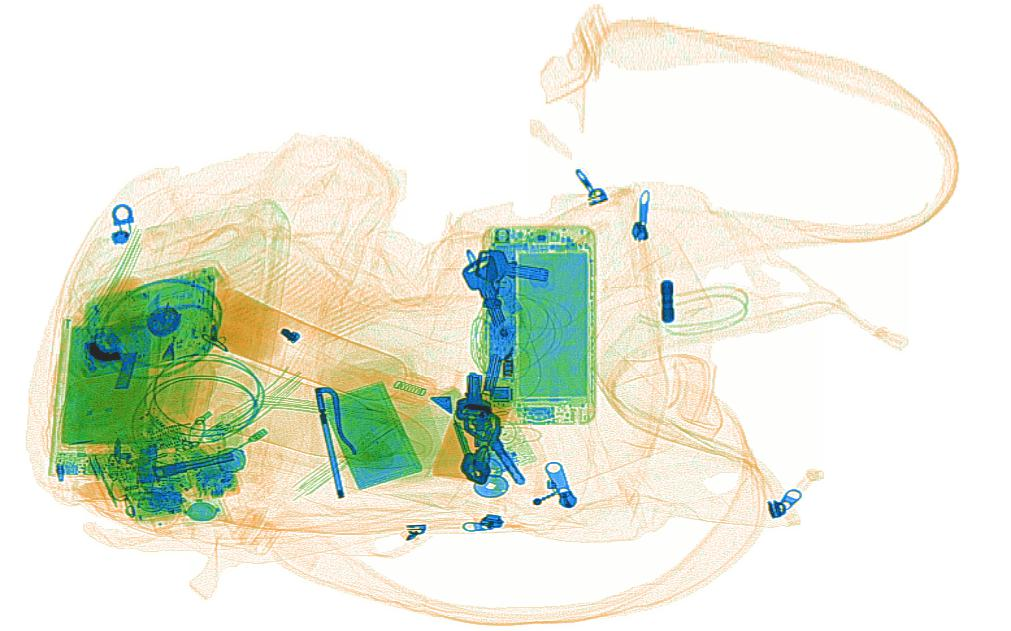plasticBottleWithaNozzle: (199, 285, 464, 412)
